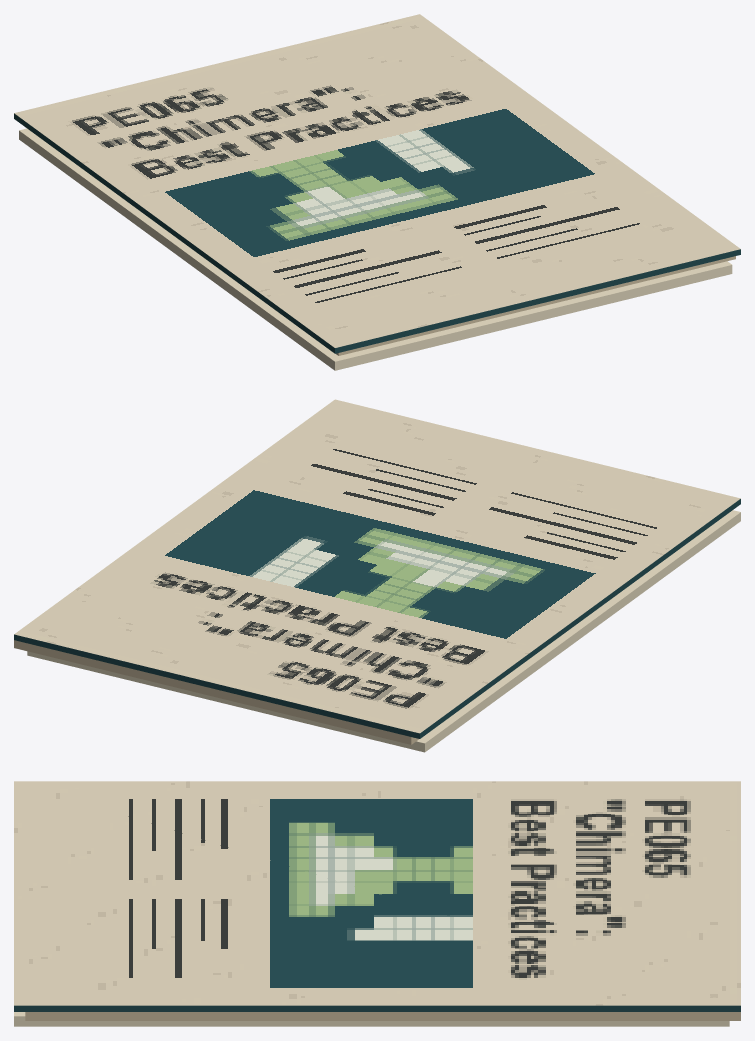
File: recipe_chimera.glb
The picture shows the model from 3 angles, top to bottom: view 1: azimuth 30°, elevation 25°; view 2: azimuth 150°, elevation 25°; view 3: azimuth 270°, elevation 25°; orthographic projection. The views are drawn at different scales.
Parts seen in each view (by area): view 1: block_report cover, block_offset bottom sheets, block_middle sheets; view 2: block_report cover, block_offset bottom sheets, block_middle sheets; view 3: block_report cover, block_middle sheets, block_offset bottom sheets.
Part boxes in pixels (x1,y1,x2,y2): block_report cover: (14, 14, 740, 353); block_offset bottom sheets: (19, 128, 732, 370); block_middle sheets: (336, 256, 735, 355); block_report cover: (14, 399, 740, 738); block_offset bottom sheets: (27, 510, 740, 752); block_middle sheets: (14, 640, 418, 744); block_report cover: (14, 781, 740, 1011); block_middle sheets: (25, 1012, 740, 1020); block_offset bottom sheets: (14, 1012, 729, 1026).
Size of the model in its own units: 0.1898 by 0.0101 by 0.26.
1 material, 1 textured.
